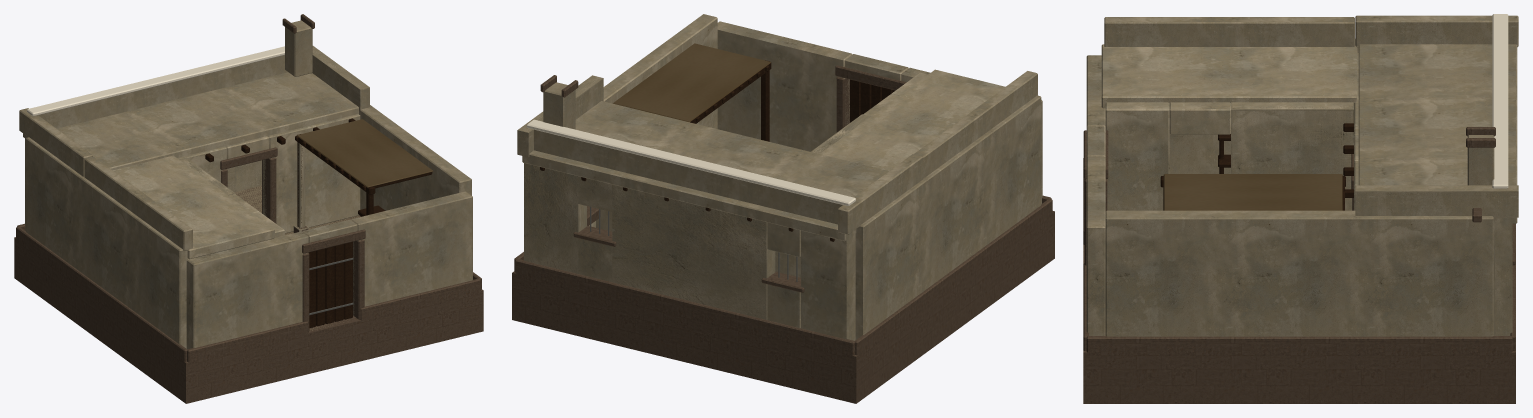
Rendered from d_courtyard_house.glb.
3 views of the same model, side by side, from view 1: azimuth 30°, elevation 25°; view 2: azimuth 150°, elevation 25°; view 3: azimuth 270°, elevation 25° (orthographic). The views are drawn at different scales.
Visible parts, largest first — view 1: entry left, continuous foundation, awning woven shade, rear lime cap, rear joist, roof side parapet-colonly.001, pergola upright-colonly.001, Door entry plank.002, Door entry plank.003, Door entry plank.001, Door entry plank.004, rear sill-colonly.001 (+2 smaller); view 2: entry left, continuous foundation, rear pier-colonly.001, awning woven shade, rear pier-colonly.002, rear lime cap, rear joist, rear sill-colonly.001, rear header-colonly.001, roof side parapet-colonly.001; view 3: entry left, continuous foundation, awning woven shade, pantry pier-colonly.001, rear lime cap, roof side parapet-colonly.001, rear pier-colonly.002, rear joist.
Boxes of the visible parts, left/top/right/bottom form: entry left: left=19, top=20, right=472, bottom=349; continuous foundation: left=14, top=14, right=483, bottom=403; awning woven shade: left=296, top=119, right=433, bottom=187; rear lime cap: left=27, top=46, right=284, bottom=116; rear joist: left=205, top=118, right=432, bottom=226; roof side parapet-colonly.001: left=312, top=46, right=369, bottom=110; pergola upright-colonly.001: left=297, top=142, right=305, bottom=228; Door entry plank.002: left=325, top=246, right=334, bottom=323; Door entry plank.003: left=334, top=244, right=343, bottom=321; Door entry plank.001: left=316, top=248, right=325, bottom=326; Door entry plank.004: left=344, top=241, right=352, bottom=319; rear sill-colonly.001: left=235, top=160, right=261, bottom=191; entry left: left=518, top=14, right=1042, bottom=340; continuous foundation: left=512, top=65, right=1054, bottom=403; rear pier-colonly.001: left=612, top=184, right=775, bottom=319; awning woven shade: left=613, top=43, right=770, bottom=122; rear pier-colonly.002: left=524, top=163, right=586, bottom=273; rear lime cap: left=526, top=119, right=855, bottom=205; rear joist: left=540, top=60, right=834, bottom=241; rear sill-colonly.001: left=578, top=238, right=612, bottom=281; rear header-colonly.001: left=578, top=176, right=612, bottom=211; roof side parapet-colonly.001: left=517, top=75, right=603, bottom=157; entry left: left=1086, top=15, right=1518, bottom=336; continuous foundation: left=1083, top=127, right=1515, bottom=403; awning woven shade: left=1163, top=174, right=1342, bottom=210; pantry pier-colonly.001: left=1231, top=102, right=1353, bottom=208; rear lime cap: left=1492, top=14, right=1508, bottom=188; roof side parapet-colonly.001: left=1355, top=185, right=1518, bottom=217; rear pier-colonly.002: left=1493, top=223, right=1512, bottom=335; rear joist: left=1160, top=123, right=1353, bottom=210.
Size of what is drawn, in the model's own units: 9.33 by 5.93 by 9.2.
9 materials, 6 textured.
